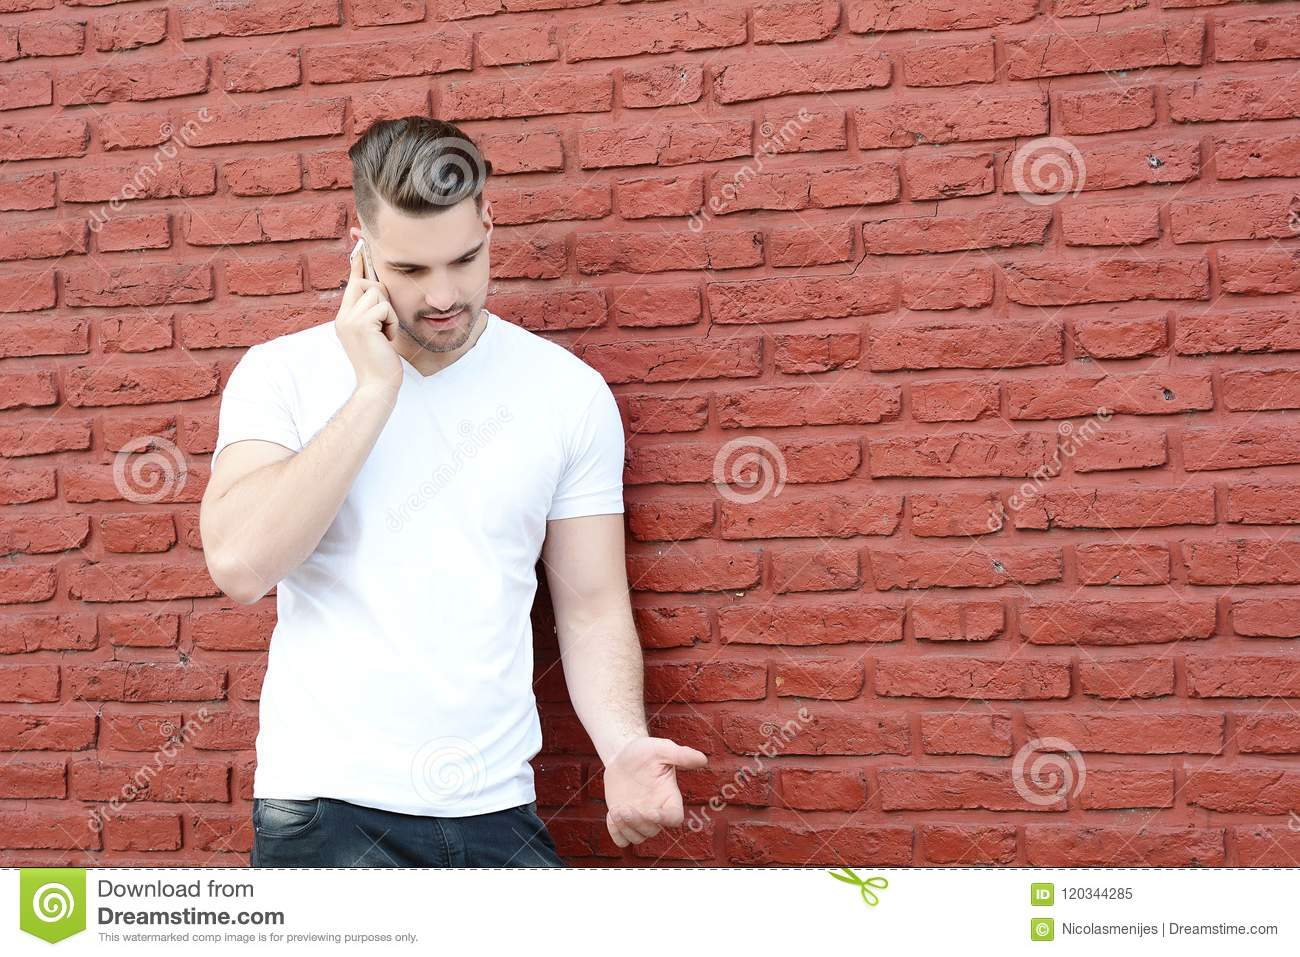phone: (348, 238, 385, 329)
talk: (332, 227, 491, 392)
